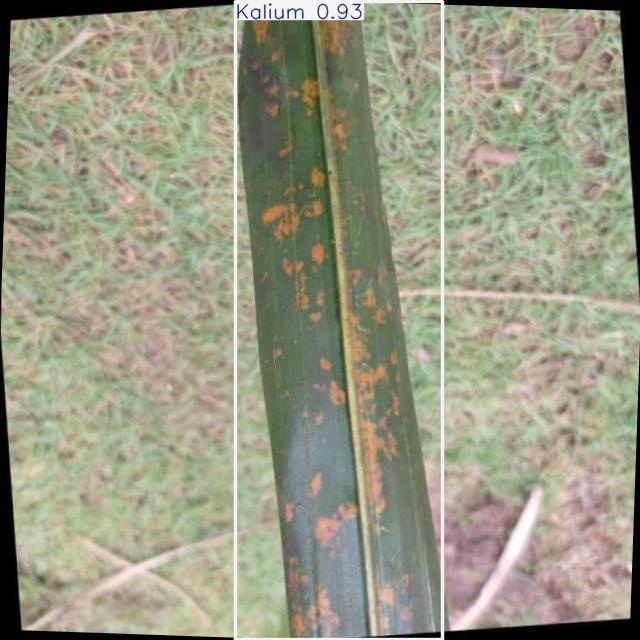Kalium: (236, 2, 443, 640)
